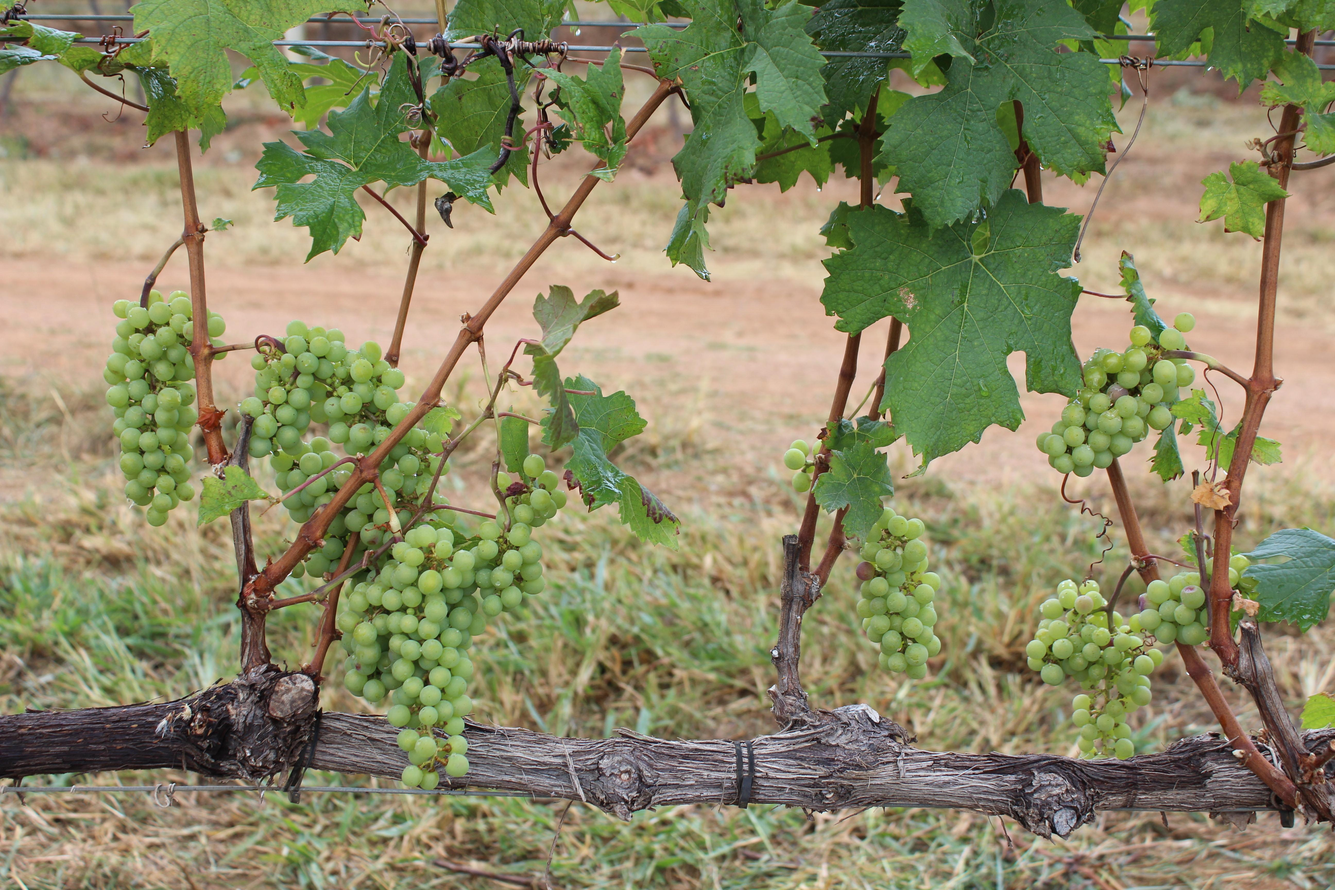leaf: (822, 190, 1081, 463), (633, 0, 826, 280), (882, 0, 1118, 228), (252, 54, 495, 260), (132, 0, 366, 117), (565, 375, 680, 549), (525, 285, 619, 448), (1150, 0, 1283, 88), (545, 47, 627, 181), (1243, 528, 1335, 631), (430, 58, 511, 157), (814, 439, 893, 538), (1261, 53, 1335, 154), (1198, 161, 1289, 240), (1171, 390, 1241, 467), (806, 0, 904, 53), (445, 0, 566, 41), (197, 466, 277, 526), (821, 57, 889, 126), (1119, 251, 1167, 339), (496, 118, 529, 185), (1150, 423, 1185, 482), (499, 416, 530, 473), (1300, 692, 1335, 729), (1251, 435, 1281, 465), (515, 65, 529, 95), (543, 419, 549, 425), (517, 66, 522, 72), (921, 56, 926, 57), (636, 430, 638, 432), (632, 403, 633, 405), (609, 446, 610, 447), (618, 440, 619, 440), (631, 434, 634, 434), (627, 397, 628, 397), (929, 60, 929, 63)
